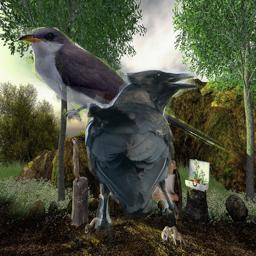Crow: (85, 64, 198, 245)
Cuckoo: (15, 27, 225, 154)
